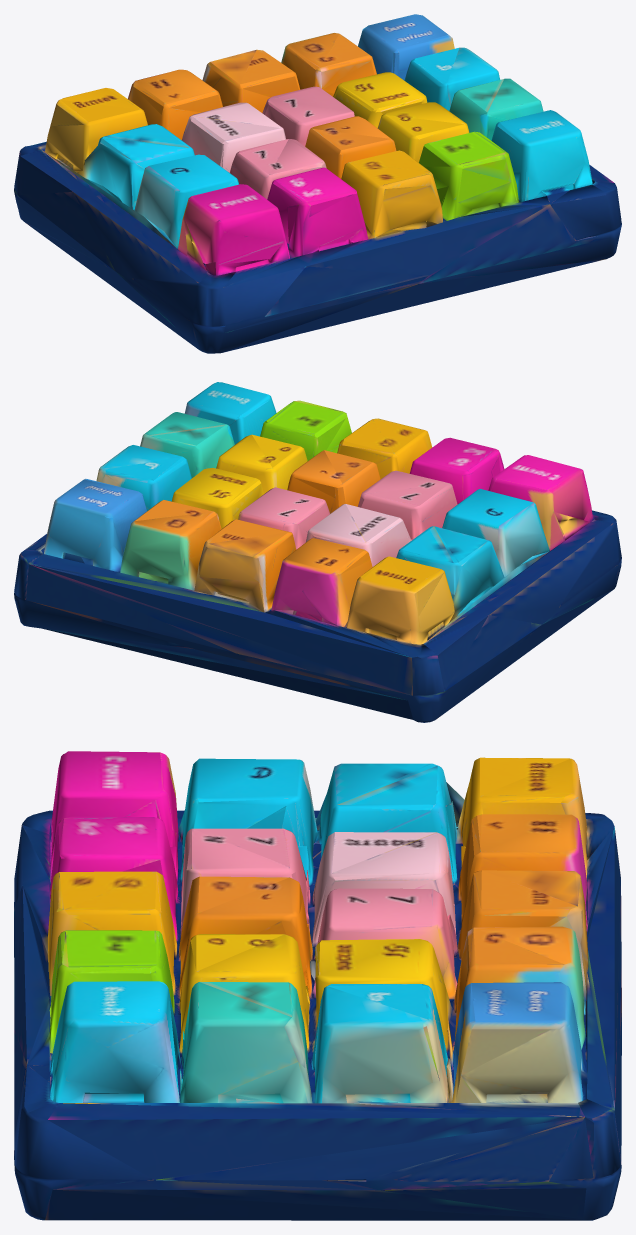
The model's file is addy_clicker.obj.
3 views of the same model, one above another, from view 1: azimuth 30°, elevation 25°; view 2: azimuth 150°, elevation 25°; view 3: azimuth 270°, elevation 25° (orthographic). The views are drawn at different scales.
Parts seen in each view (by area): view 1: model; view 2: model; view 3: model.
Part boxes in pixels (x1,y1,x2,y2): model: [14, 14, 621, 353]; model: [14, 382, 621, 722]; model: [14, 751, 621, 1220].
Bounding box in the file's own units: 1.9 × 0.5239 × 1.54.
